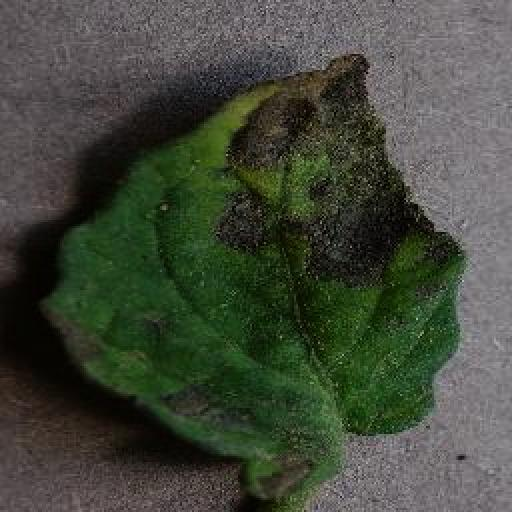disease_tomato: (47, 50, 468, 512)
